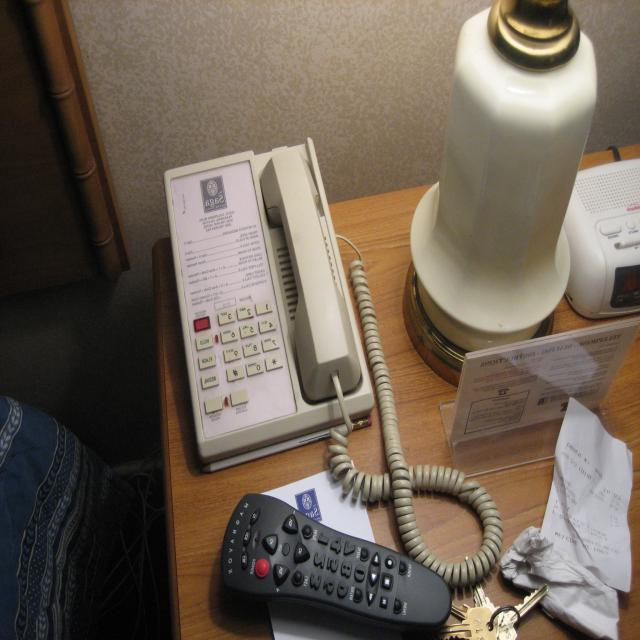Keys: (430, 558, 546, 640)
Paper: (498, 398, 632, 639)
Phone: (163, 138, 374, 460)
Remote Control: (219, 494, 449, 625)
bed frame: (0, 395, 128, 638)
desktop: (151, 142, 639, 640)
digital clock crop: (564, 159, 639, 321)
floor -X: (2, 370, 639, 640)
headboard: (0, 1, 133, 336)
lamp occluded: (402, 0, 598, 388)
paper cup with straws: (246, 460, 402, 639)
placard: (439, 320, 639, 478)
telephone: (260, 148, 361, 399)
telephone handset: (329, 235, 504, 583)
wall clock: (0, 1, 639, 491)
